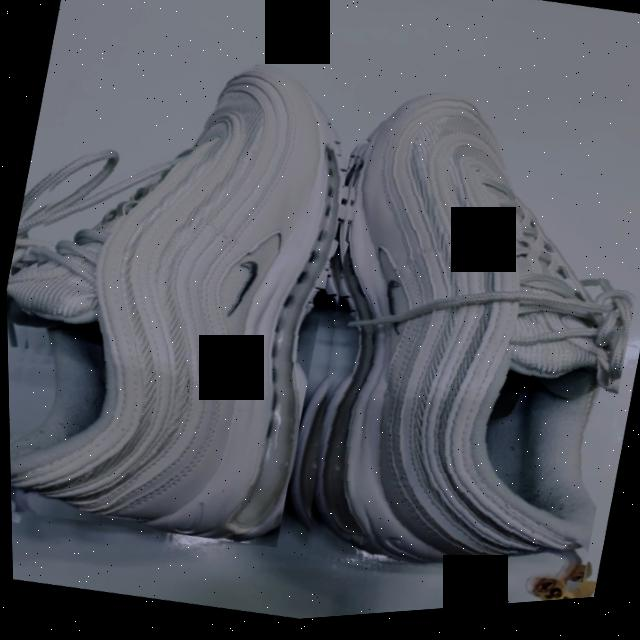shoe: (266, 69, 640, 619), (1, 22, 372, 567)
